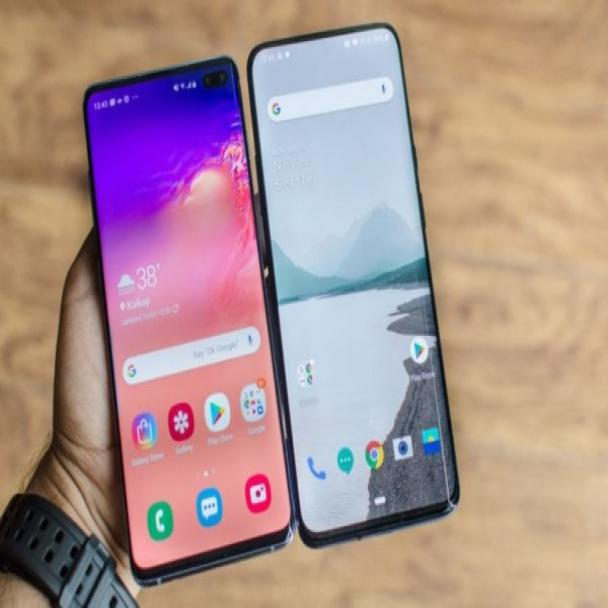Handphone: (240, 14, 468, 561), (74, 46, 296, 600)
